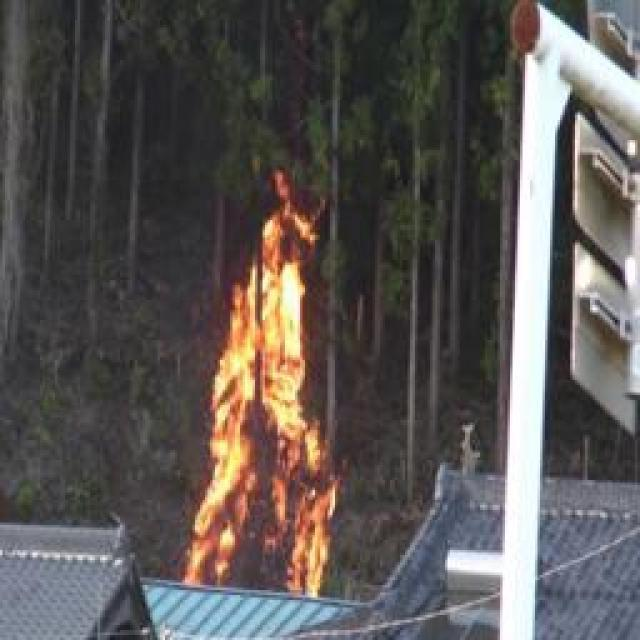Fire: (185, 220, 344, 591)
